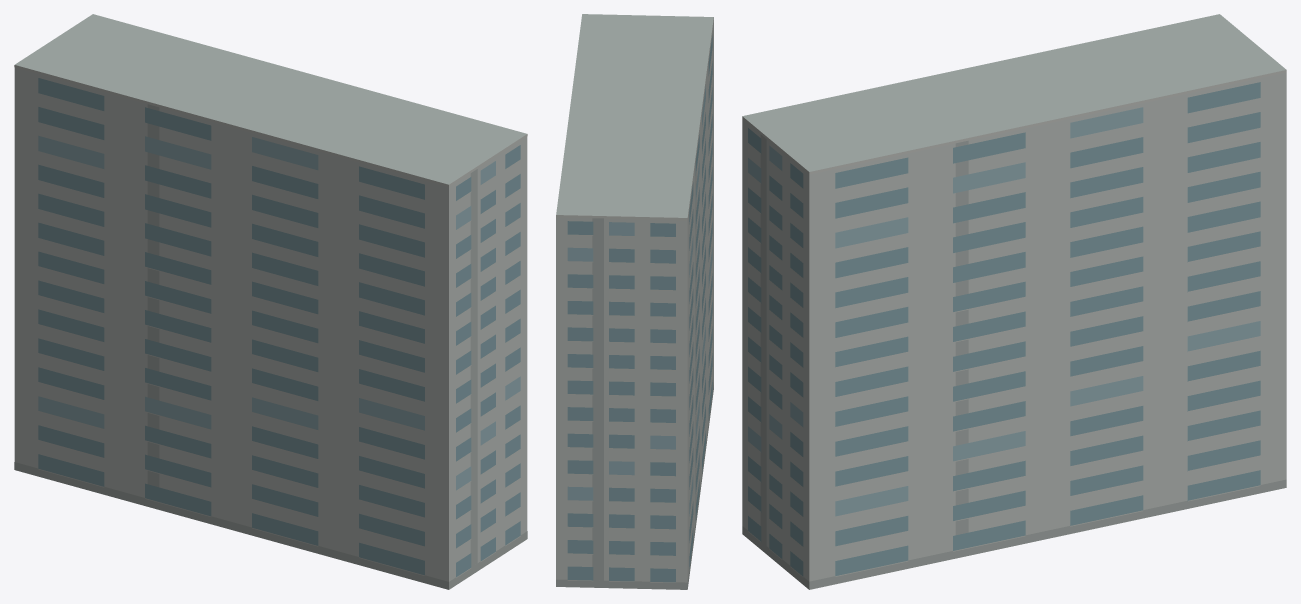
Rendered from residential-dcd539b8-fbb2-42ac-ad6c-c051d72ef544.glb.
3 renders of one model, left to right at view 1: azimuth 30°, elevation 25°; view 2: azimuth 150°, elevation 25°; view 3: azimuth 270°, elevation 25°, orthographic. The views are drawn at different scales.
Parts seen in each view (by area): view 1: residential-dcd539b8-fbb2-42ac-ad6c-c051d72ef544.tmp; view 2: residential-dcd539b8-fbb2-42ac-ad6c-c051d72ef544.tmp; view 3: residential-dcd539b8-fbb2-42ac-ad6c-c051d72ef544.tmp.
Boxes of the visible parts, x1,y1,x2,y2 form: residential-dcd539b8-fbb2-42ac-ad6c-c051d72ef544.tmp: (14, 14, 527, 589); residential-dcd539b8-fbb2-42ac-ad6c-c051d72ef544.tmp: (556, 14, 713, 589); residential-dcd539b8-fbb2-42ac-ad6c-c051d72ef544.tmp: (742, 14, 1286, 589).
Size of the model in its own units: 30.82 by 38 by 44.87.
